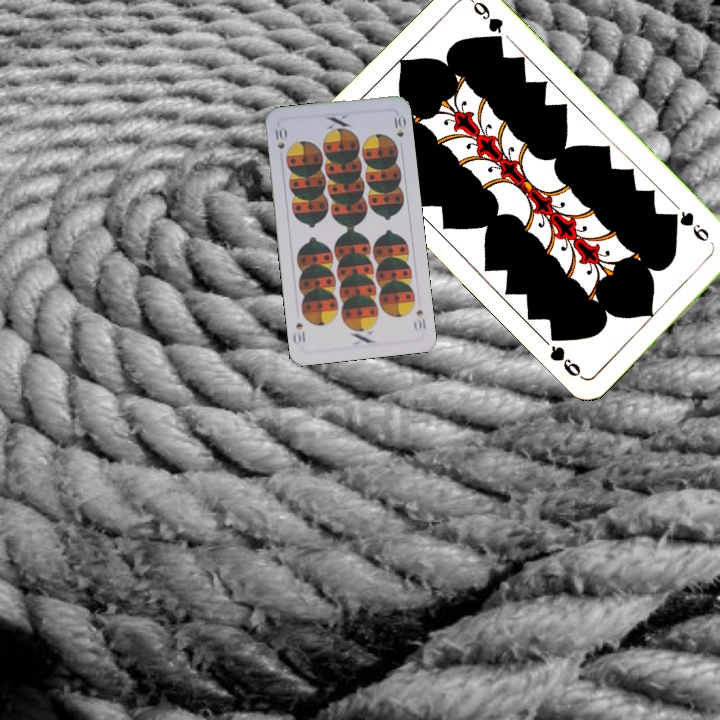G9: (666, 206, 712, 244)
S10: (410, 305, 429, 333), (271, 124, 288, 152)
